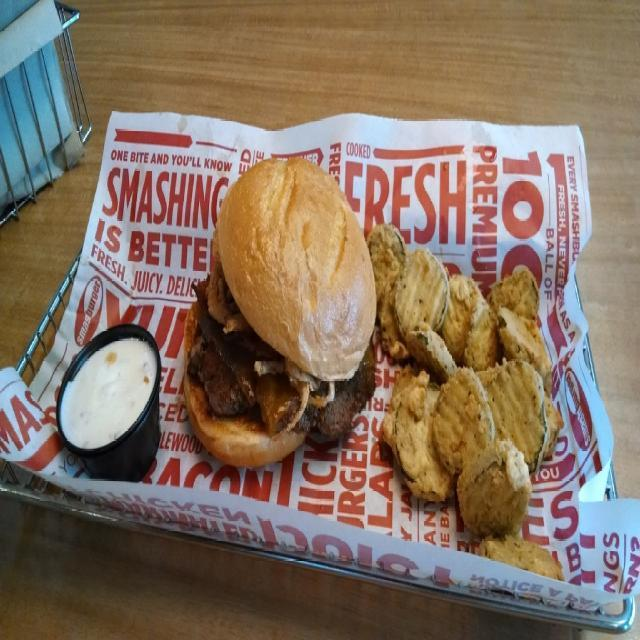Hamburger: (184, 159, 378, 473)
